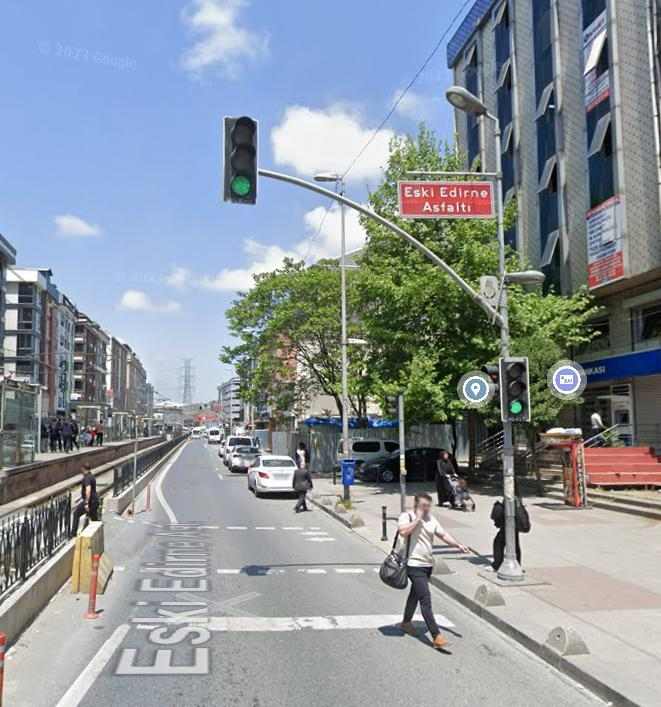greenlight: (225, 118, 255, 201), (498, 357, 526, 422)
